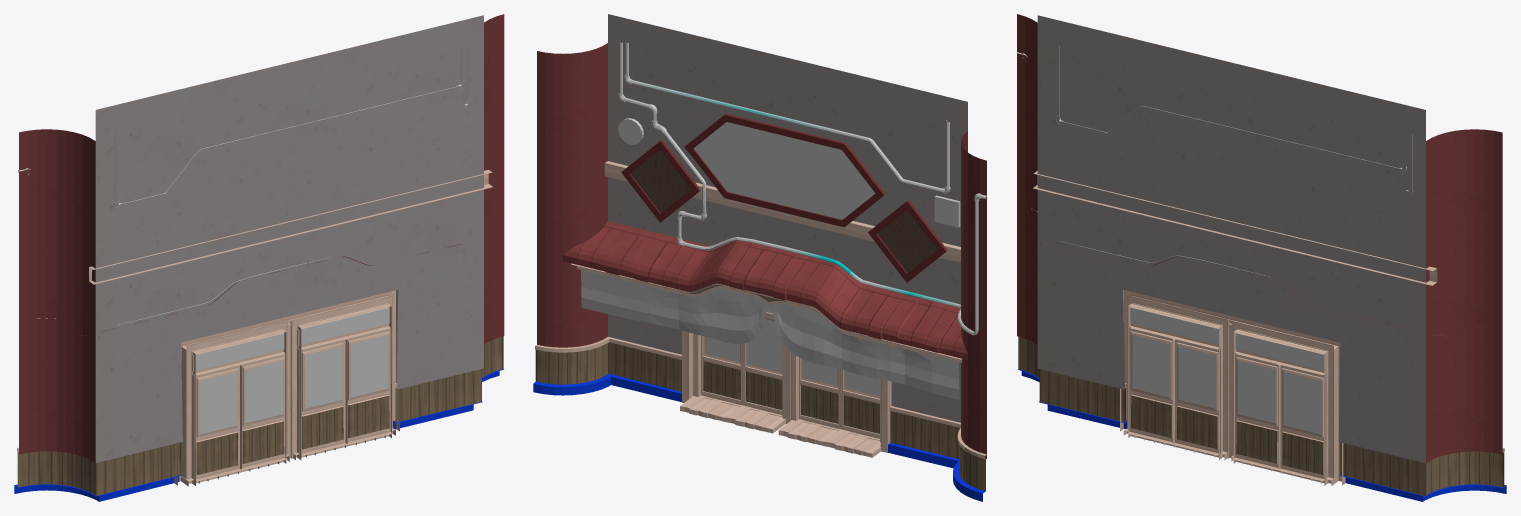
The model's file is SM_ENV_KNVLLG_AreaH_Building_A_Entrance.mo.fbx.
3 views of the same model, side by side, from view 1: azimuth 30°, elevation 25°; view 2: azimuth 150°, elevation 25°; view 3: azimuth 330°, elevation 25° (orthographic). The views are drawn at different scales.
Visible parts, largest first — view 1: SM_ENV_KNVLLG_AreaH_Building_A_Entrance.mo; view 2: SM_ENV_KNVLLG_AreaH_Building_A_Entrance.mo; view 3: SM_ENV_KNVLLG_AreaH_Building_A_Entrance.mo.
Boxes of the visible parts, x1,y1,x2,y2 form: SM_ENV_KNVLLG_AreaH_Building_A_Entrance.mo: (14,14,504,501); SM_ENV_KNVLLG_AreaH_Building_A_Entrance.mo: (533,14,987,501); SM_ENV_KNVLLG_AreaH_Building_A_Entrance.mo: (1016,14,1506,501).
Size of the model in its own units: 15.01 by 11.69 by 2.07.
